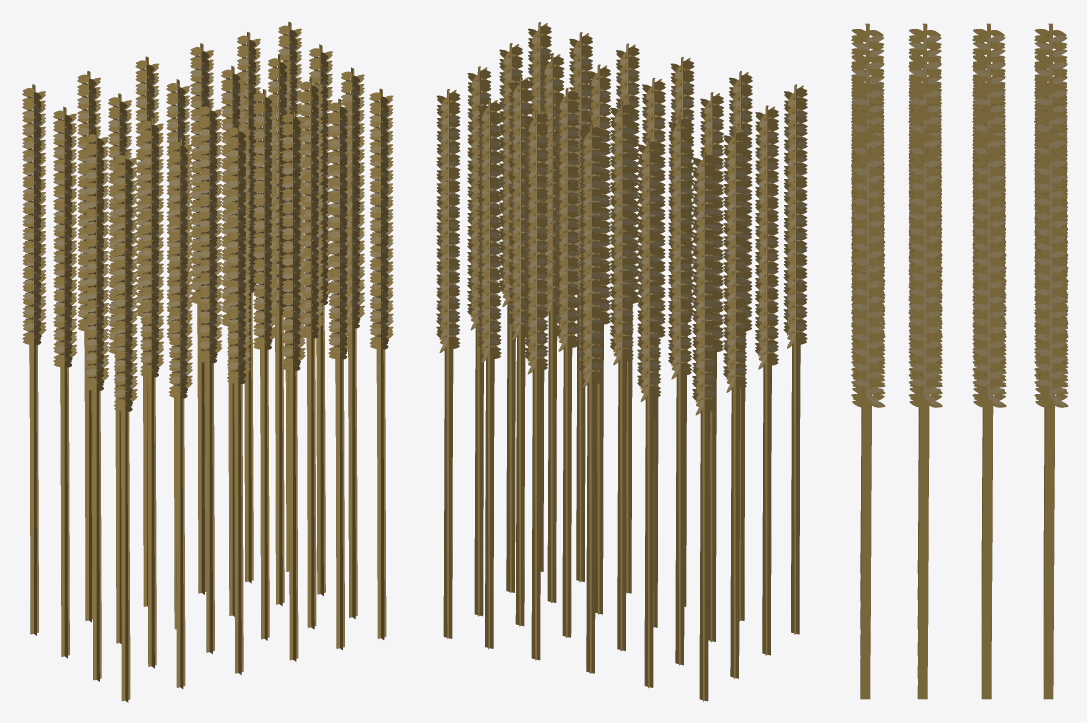
File: groupe_ble.fbx
3 views of the same model, side by side, from view 1: azimuth 30°, elevation 25°; view 2: azimuth 150°, elevation 25°; view 3: azimuth 270°, elevation 25° (orthographic).
Parts seen in each view (by area): view 1: ble24; view 2: ble24; view 3: ble24.
Part boxes in pixels (x1,y1,x2,y2): ble24: (22,21,393,702); ble24: (436,22,807,701); ble24: (851,23,1068,699).
Size of the model in its own units: 67.53 by 120 by 45.17.
